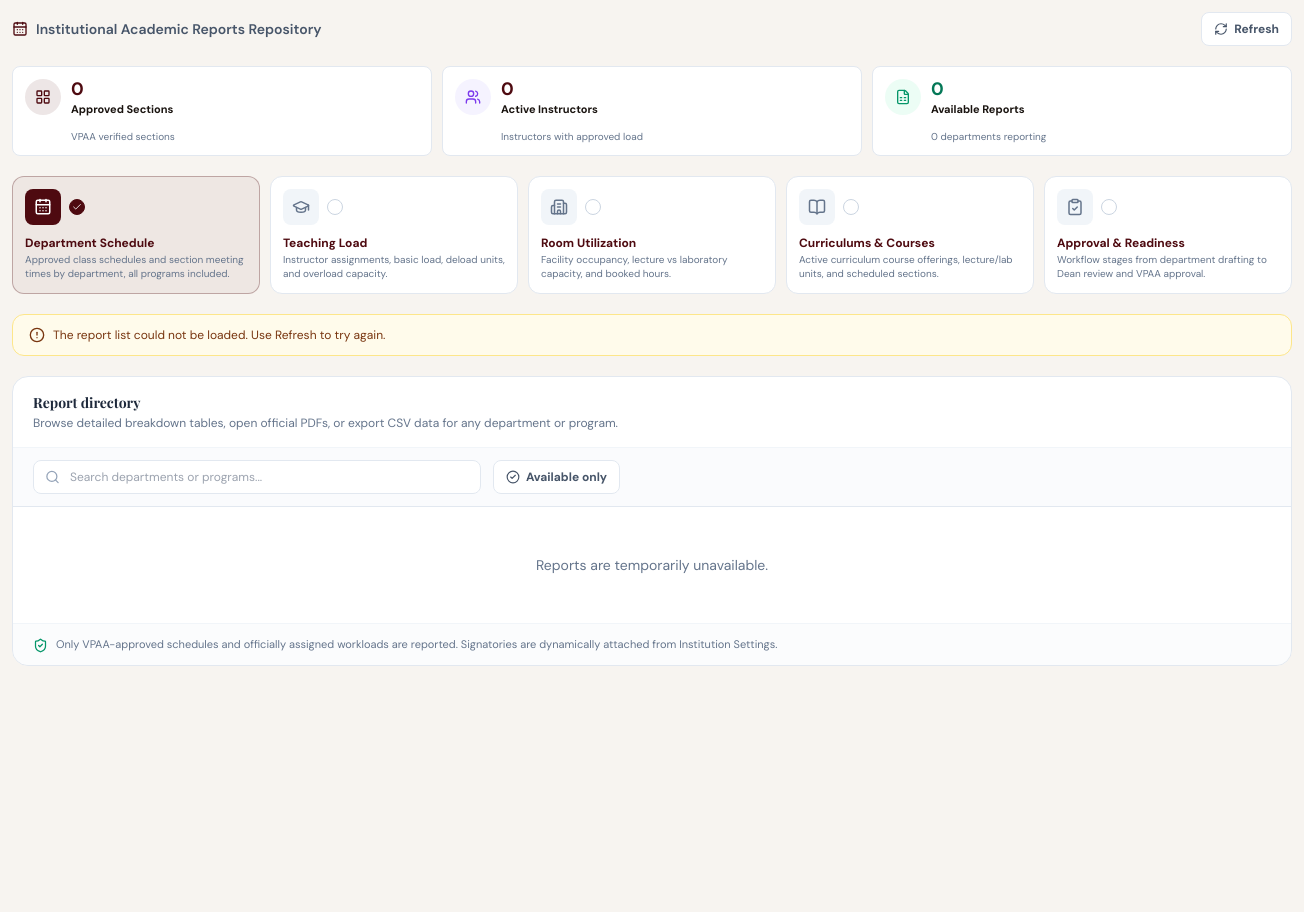
Reports directory › offers recovery after a load failure and preserves the directory after a failed refresh
Check: the message shows "could not be loaded", box [53,326,386,342]
Click the button "Refresh". click: (1247, 29)
box: [1201,12,1292,46]
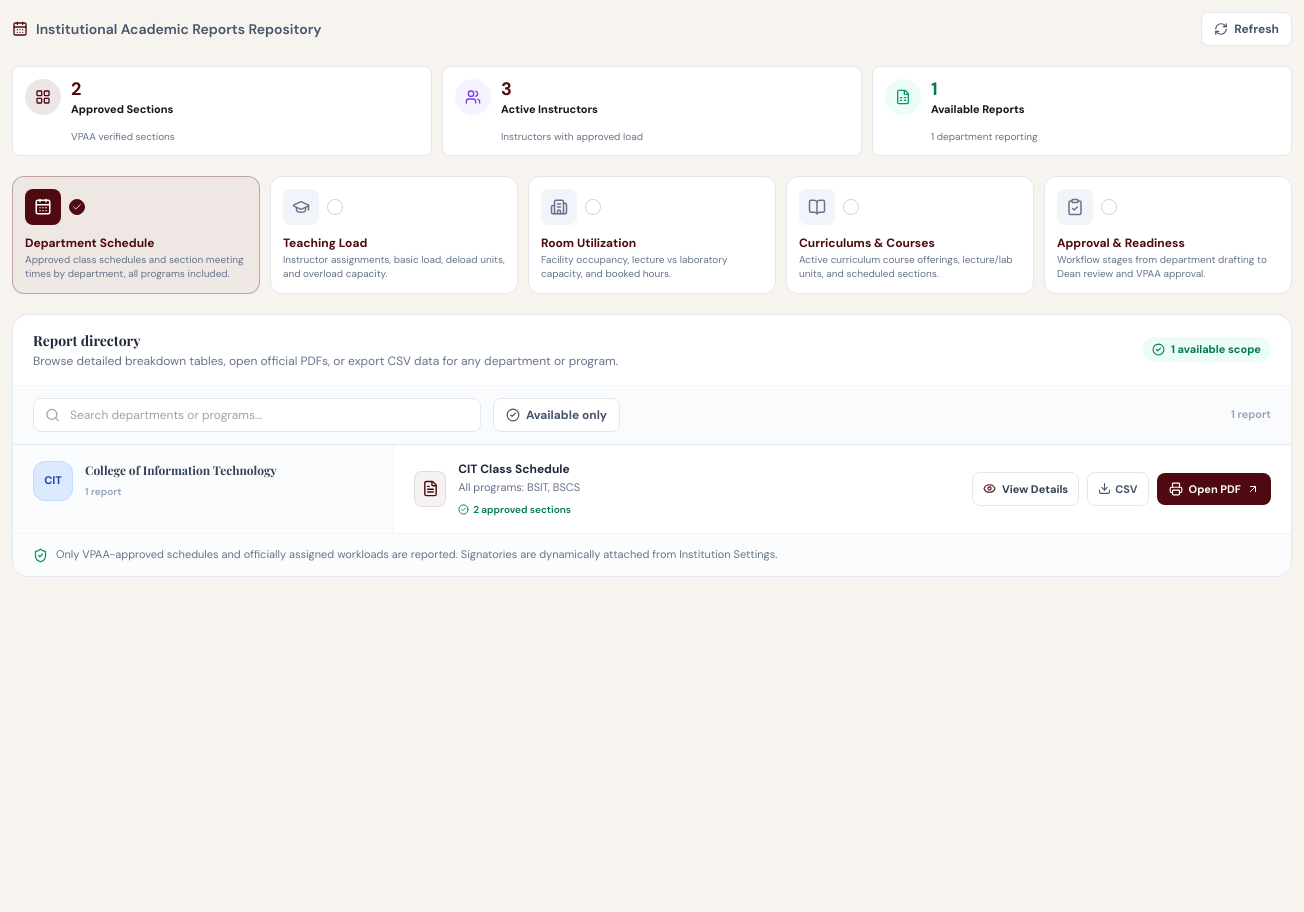
Check: the text "CIT Class Schedule" is shown, box [458,460,570,476]
Click the button "Refresh". click: (1247, 29)
box: [1201,12,1292,46]
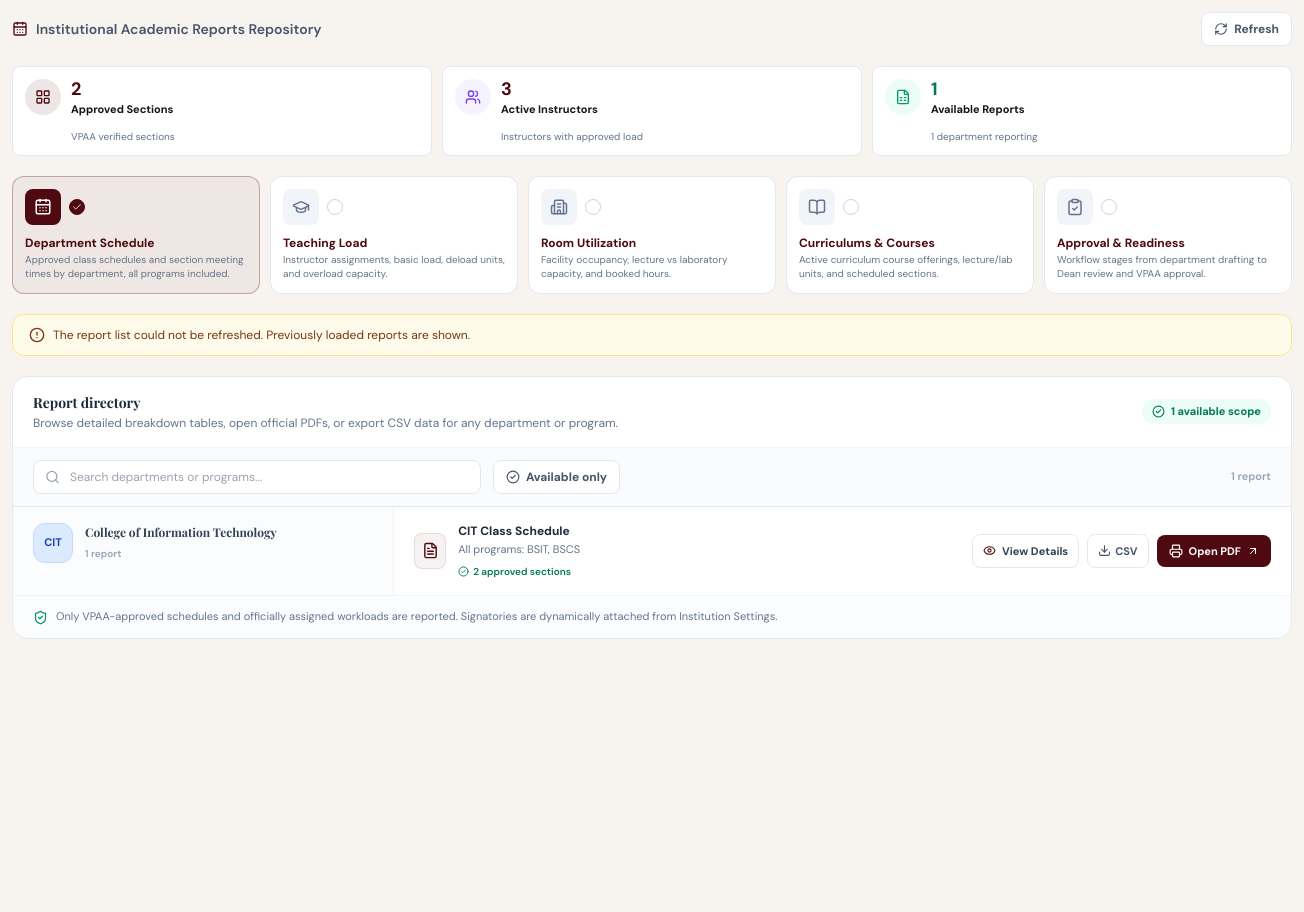
Check: the text "CIT Class Schedule" is shown, box [458,522,570,538]
Check: the message "The report list could not be refreshed. Previously loaded reports are shown." is shown, box [12,314,1292,356]
